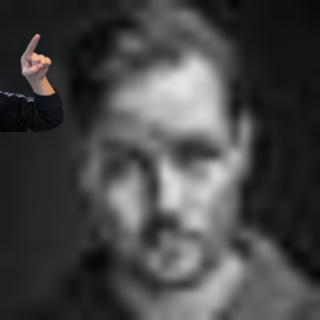IRRITATED: (18, 32, 53, 81)
